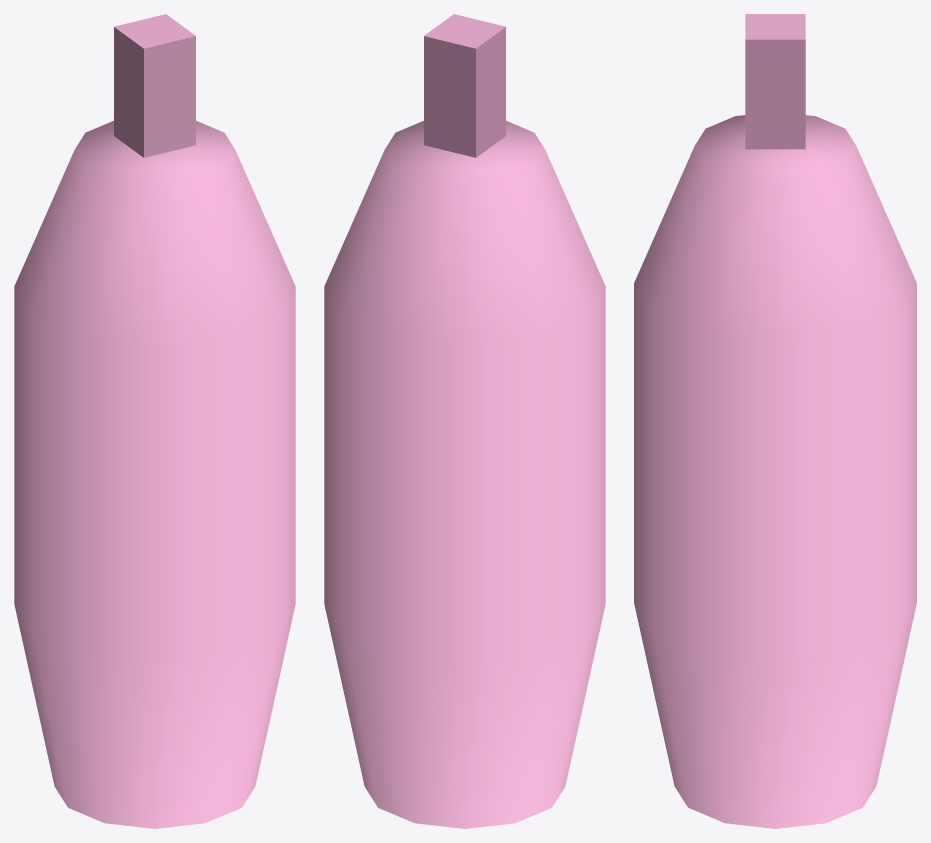
Rendered from hero.glb.
The picture shows the model from 3 angles, left to right: view 1: azimuth 30°, elevation 25°; view 2: azimuth 150°, elevation 25°; view 3: azimuth 270°, elevation 25°; orthographic projection.
Parts seen in each view (by area): view 1: beauty_hero; view 2: beauty_hero; view 3: beauty_hero.
Part boxes in pixels (x1=…): beauty_hero: x1=14, y1=14, x2=295, y2=828; beauty_hero: x1=324, y1=14, x2=605, y2=828; beauty_hero: x1=634, y1=14, x2=916, y2=828.
Size of the model in its own units: 0.28 by 0.831 by 0.28.
